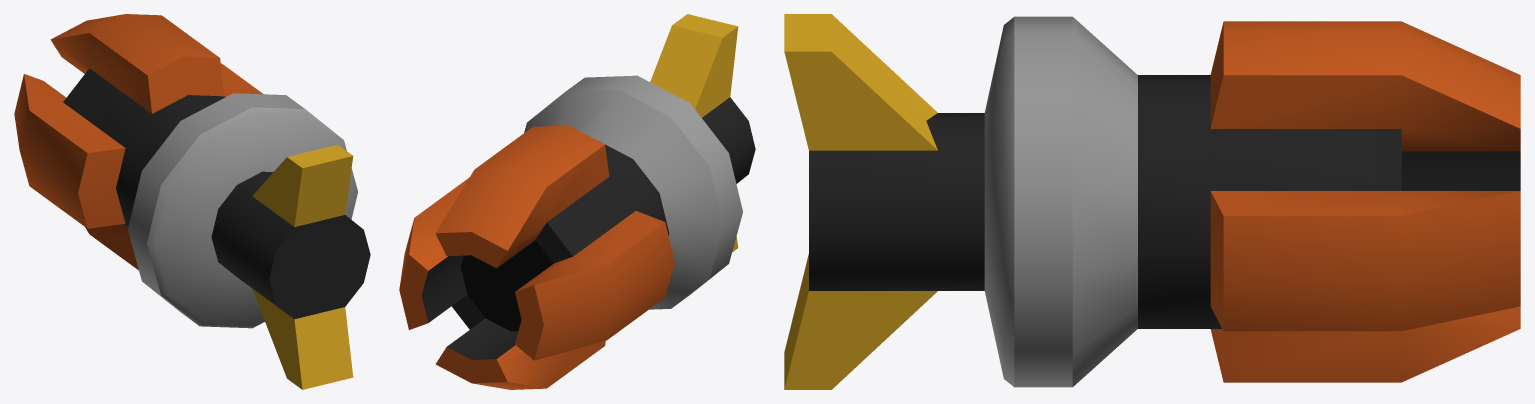
Rendered from Missile_Homing.FBX.
3 views of the same model, side by side, from view 1: azimuth 30°, elevation 25°; view 2: azimuth 150°, elevation 25°; view 3: azimuth 270°, elevation 25° (orthographic). The views are drawn at different scales.
Visible parts, largest first — view 1: Bazooka_Homing; view 2: Bazooka_Homing; view 3: Bazooka_Homing.
Part boxes in pixels (x1,y1,x2,y2): Bazooka_Homing: (14, 14, 370, 389); Bazooka_Homing: (399, 14, 755, 389); Bazooka_Homing: (784, 14, 1520, 389).
Size of the model in its own units: 18.48 by 18.48 by 36.46.
